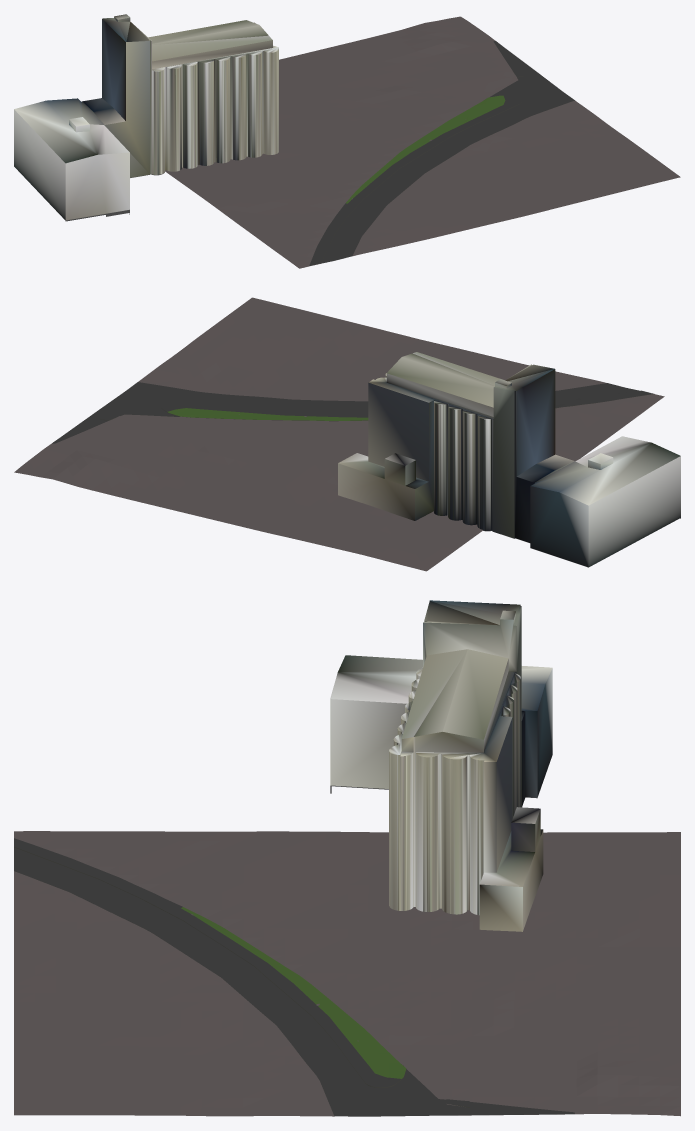
3 views of the same model, one above another, from view 1: azimuth 30°, elevation 25°; view 2: azimuth 150°, elevation 25°; view 3: azimuth 270°, elevation 25° (orthographic). The views are drawn at different scales.
Visible parts, largest first — view 1: c_m11_p13; view 2: c_m11_p13; view 3: c_m11_p13.
Part boxes in pixels (x1=…): c_m11_p13: x1=14, y1=14, x2=680, y2=268; c_m11_p13: x1=14, y1=297, x2=680, y2=571; c_m11_p13: x1=14, y1=600, x2=680, y2=1116.
Bounding box in the file's own units: 170 × 45.71 × 128.
